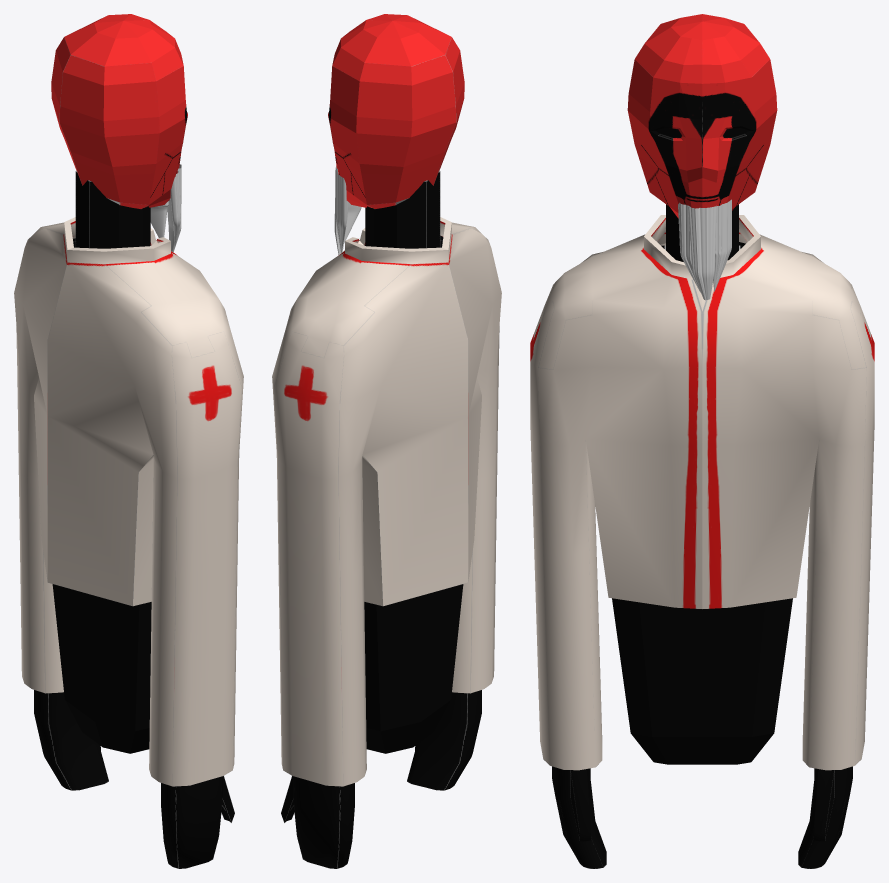
The model's file is Robot Medical.fbx.
The picture shows the model from 3 angles, left to right: view 1: azimuth 30°, elevation 25°; view 2: azimuth 150°, elevation 25°; view 3: azimuth 270°, elevation 25°; orthographic projection. The views are drawn at different scales.
Parts seen in each view (by area): view 1: Cube.003, Head.001, Cube.004, Cube, NurbsPath.001, NurbsPath.002; view 2: Cube.003, Head.001, Cube.004, Cube, NurbsPath.002; view 3: Cube.003, Cube.004, Head.001, NurbsPath, NurbsPath.002, Cube, NurbsPath.001.
Boxes of the visible parts, x1,y1,x2,y2 form: Cube.003: (14,217,243,868); Head.001: (51,14,187,208); Cube.004: (52,584,151,753); Cube: (73,170,150,248); NurbsPath.001: (170,168,180,246); NurbsPath.002: (150,201,168,237); Cube.003: (272,217,501,868); Head.001: (328,14,464,208); Cube.004: (364,584,463,753); Cube: (365,170,443,248); NurbsPath.002: (335,168,346,253); Cube.003: (530,215,874,868); Cube.004: (612,598,792,764); Head.001: (627,14,777,218); NurbsPath: (688,205,716,300); NurbsPath.002: (713,199,731,291); Cube: (661,204,745,261); NurbsPath.001: (678,202,700,292).
Bounding box in the file's own units: 0.2458 × 1.29 × 0.4862.
